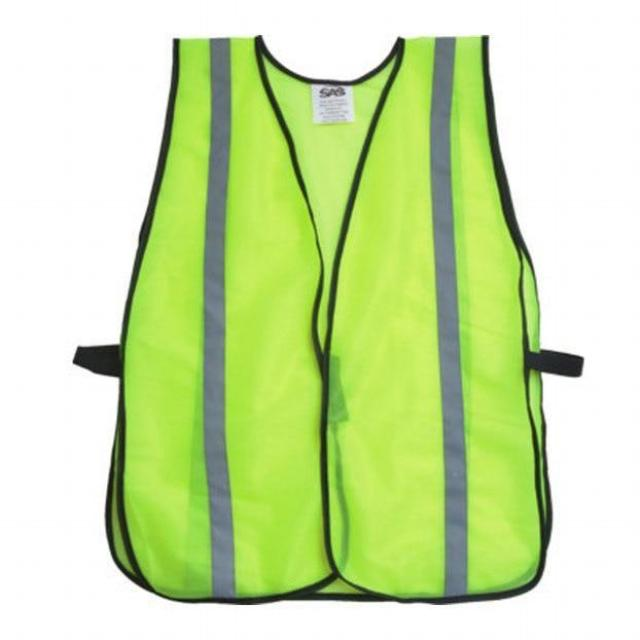con_chaleco: (104, 29, 555, 601)
